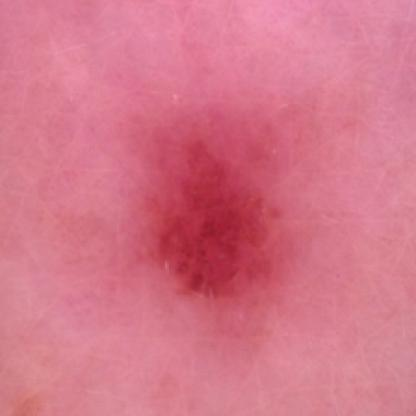benign: (150, 137, 294, 303)
